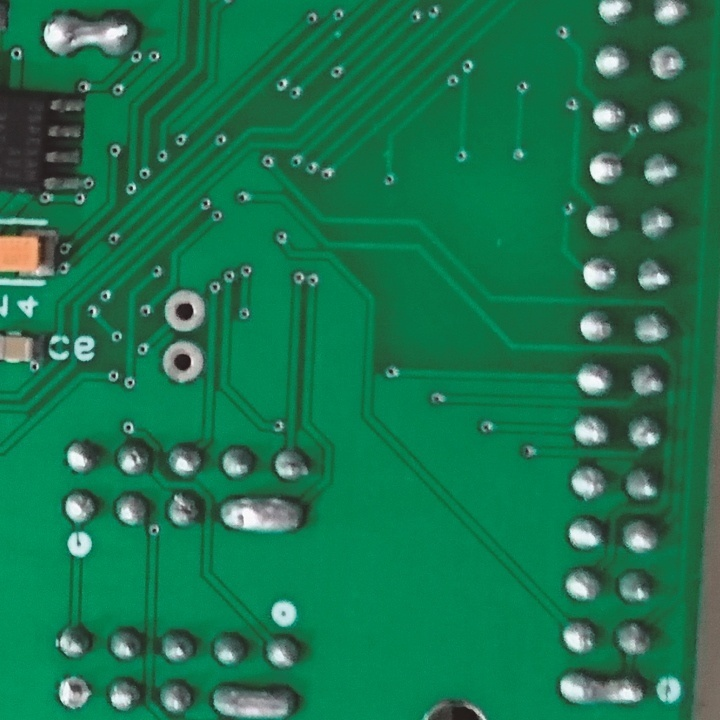F: (156, 340, 208, 389), (161, 286, 207, 335), (646, 39, 690, 83), (582, 200, 625, 245), (587, 147, 628, 189), (56, 671, 93, 712)
P: (39, 8, 144, 58), (218, 488, 308, 541), (556, 667, 652, 712), (209, 678, 299, 720)
